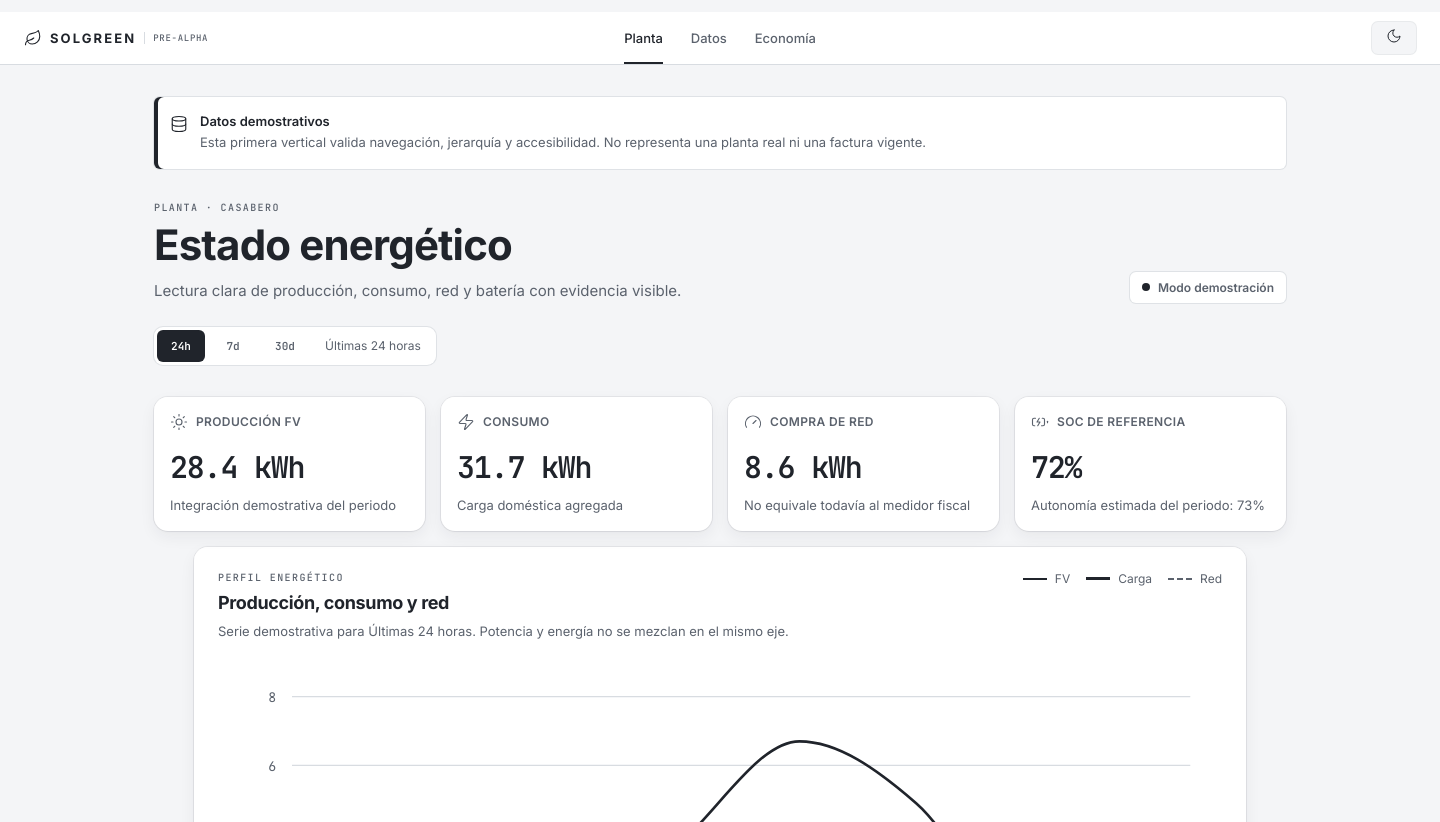
Scenario: Solgreen unified frontend › updates dashboard metrics when the period changes
Expected: the text with test id "production-value" reads "28.4 kWh", [170, 447, 304, 487]
Click the button "7d" at (233, 346), box [209, 330, 257, 362]
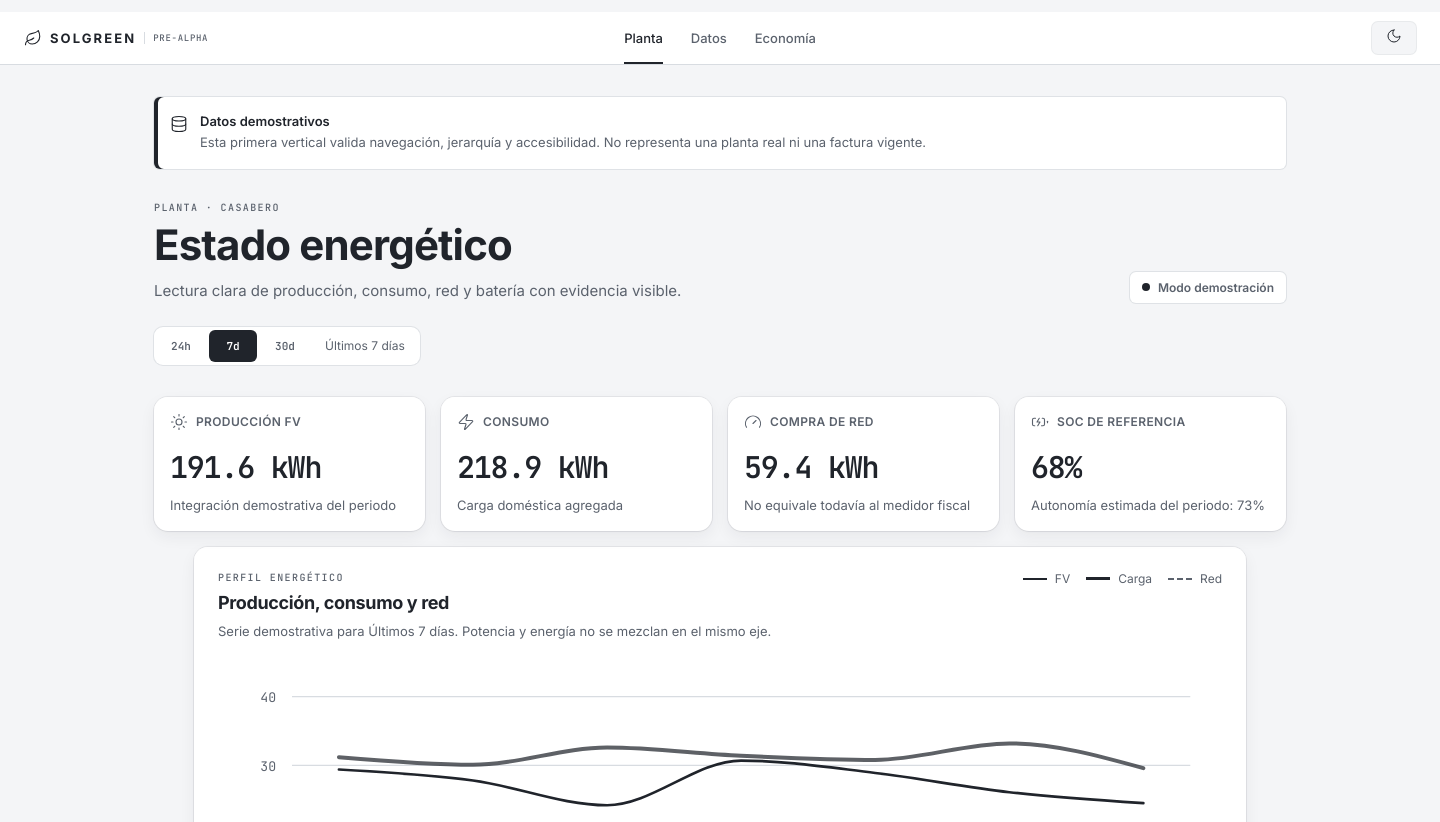
Result: the text with test id "production-value" reads "191.6 kWh" at [170, 447, 321, 487]
